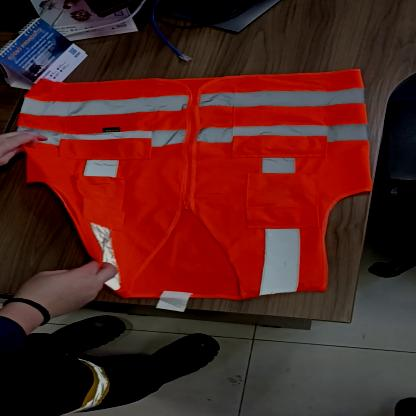colete: (15, 70, 378, 302)
